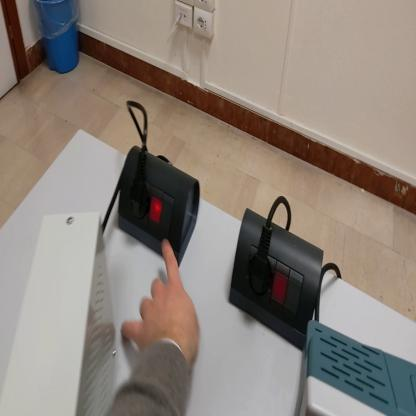hand: (125, 239, 200, 367)
oscilloscope: (299, 319, 416, 416)
power supply: (2, 203, 115, 416)
socket: (227, 201, 324, 356), (117, 147, 203, 270)
